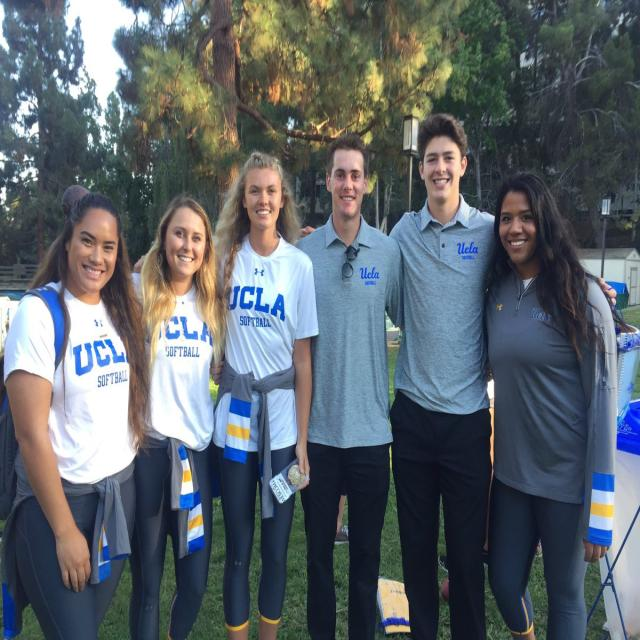body: (294, 108, 620, 639), (294, 129, 497, 640), (130, 145, 321, 639), (0, 188, 159, 639), (481, 169, 620, 640), (91, 188, 231, 640)
